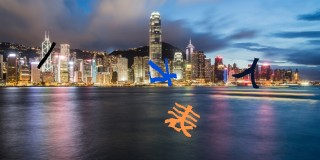一: (35, 41, 58, 68)
人: (232, 54, 262, 91)
才: (147, 57, 178, 87)
表: (164, 102, 200, 139)
